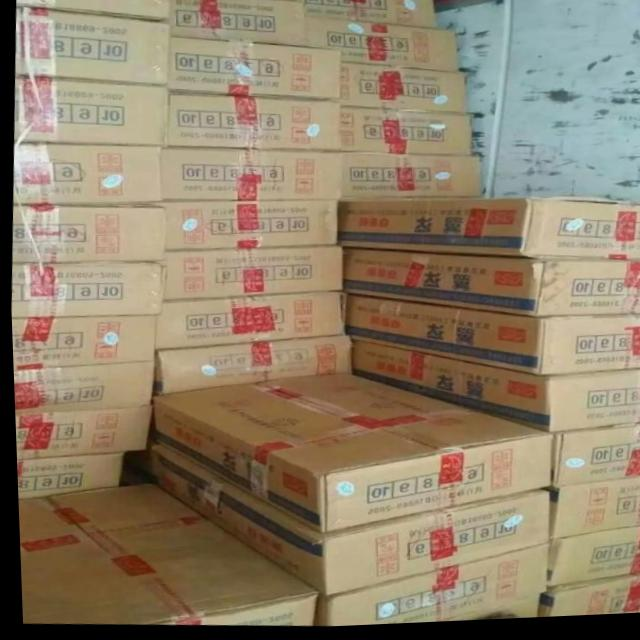box: (129, 442, 545, 599), (149, 374, 547, 537), (15, 485, 311, 629), (349, 344, 640, 438), (342, 296, 640, 381), (342, 250, 640, 322), (337, 201, 640, 266), (308, 549, 544, 629), (15, 5, 174, 87), (149, 338, 348, 398), (165, 38, 340, 103), (13, 76, 169, 147), (165, 92, 339, 154), (155, 294, 342, 350), (163, 149, 341, 203), (12, 143, 163, 205), (163, 249, 343, 301), (9, 261, 163, 319), (10, 205, 164, 262), (305, 20, 460, 75), (163, 203, 338, 251), (9, 317, 156, 370), (12, 407, 149, 460), (11, 363, 153, 413), (338, 66, 467, 118), (339, 156, 483, 202), (171, 0, 305, 49), (339, 110, 474, 158), (539, 485, 640, 544), (544, 532, 640, 593), (548, 430, 640, 493), (270, 0, 435, 34), (13, 453, 121, 498), (532, 580, 640, 622), (19, 0, 172, 23)
